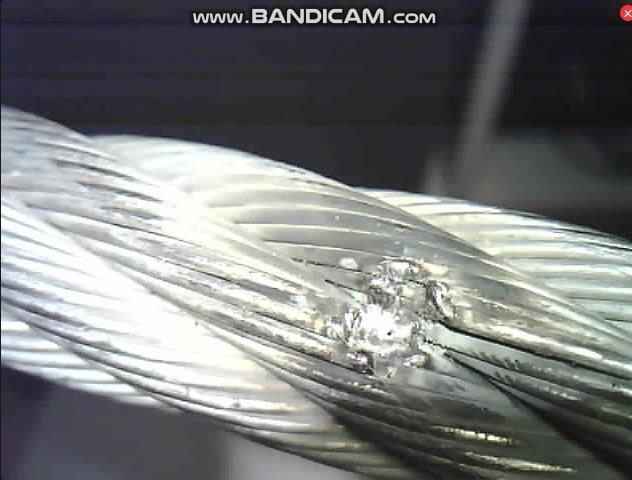thunderbolt: (309, 261, 500, 378)
